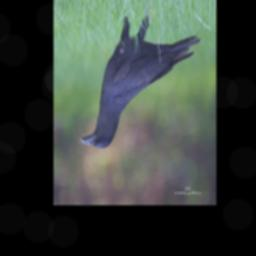Crow: (80, 2, 202, 150)
